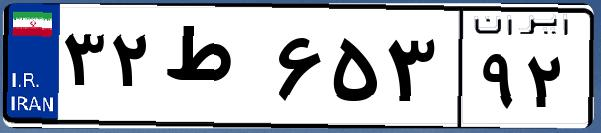2: (525, 38, 570, 115), (110, 28, 158, 98)
3: (385, 28, 445, 110), (57, 26, 110, 100)
5: (330, 28, 385, 110)
6: (270, 28, 330, 110)
9: (475, 38, 525, 113)
ط: (158, 20, 270, 120)
